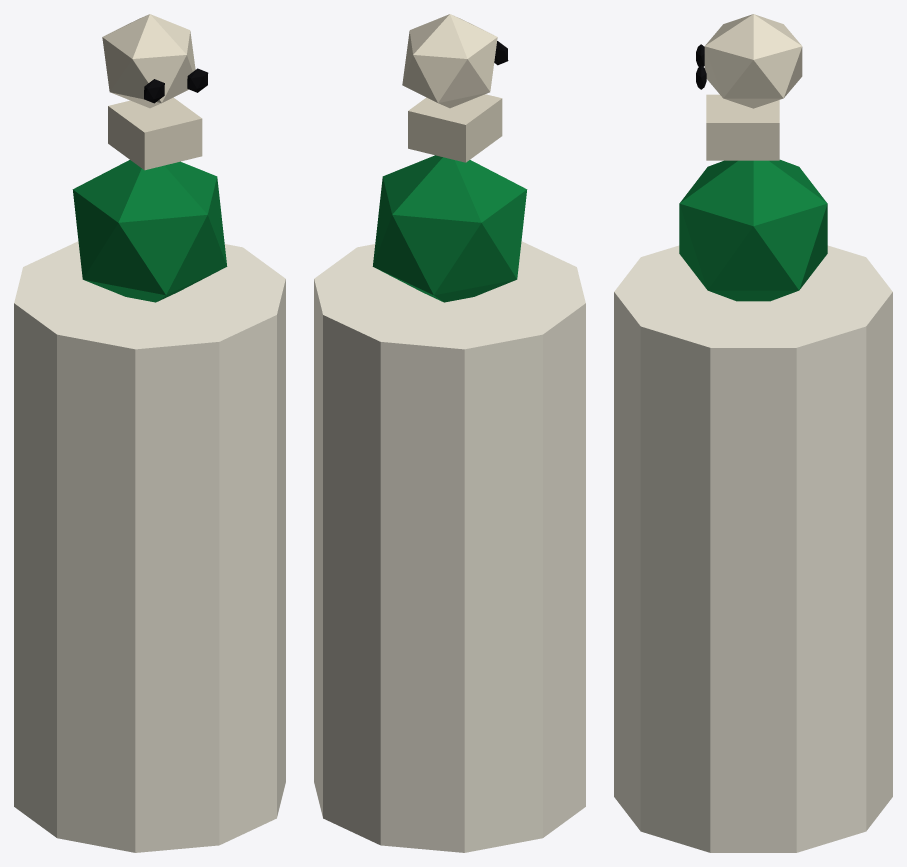
The model's file is Item_OR_Tonic_40.glb.
3 renders of one model, left to right at view 1: azimuth 30°, elevation 25°; view 2: azimuth 150°, elevation 25°; view 3: azimuth 270°, elevation 25°, orthographic.
Visible parts, largest first — view 1: Item_OR_Tonic_40; view 2: Item_OR_Tonic_40; view 3: Item_OR_Tonic_40.
Boxes of the visible parts, bbox=[...] form: Item_OR_Tonic_40: bbox=[14, 14, 285, 852]; Item_OR_Tonic_40: bbox=[314, 14, 585, 852]; Item_OR_Tonic_40: bbox=[614, 14, 892, 852].
Bounding box in the file's own units: 0.0761 × 0.248 × 0.08.
